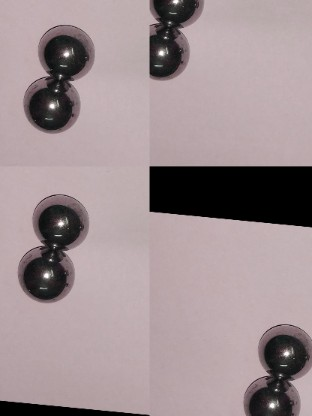ironball: (15, 242, 77, 303), (259, 314, 311, 386), (234, 366, 308, 414), (21, 76, 81, 134), (36, 20, 92, 80), (31, 194, 91, 246), (146, 18, 190, 78), (147, 0, 202, 30)
